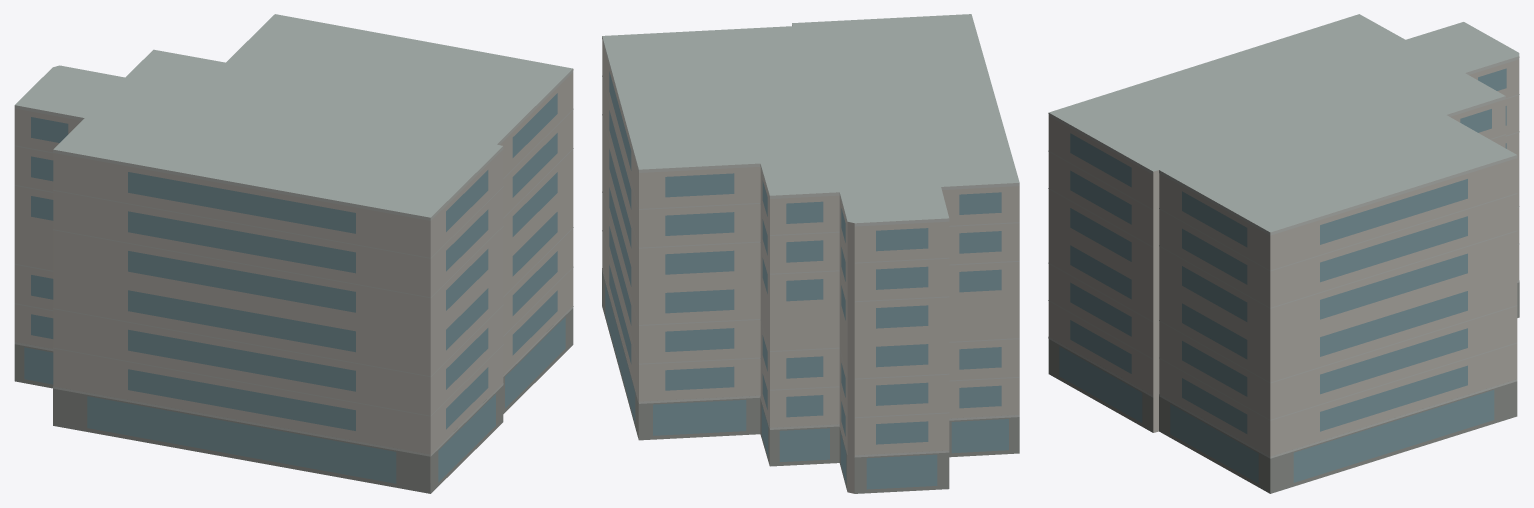
File: survey-upis-32715404.glb
3 renders of one model, left to right at view 1: azimuth 30°, elevation 25°; view 2: azimuth 150°, elevation 25°; view 3: azimuth 270°, elevation 25°, orthographic. The views are drawn at different scales.
Visible parts, largest first — view 1: survey-upis-32715404.tmp; view 2: survey-upis-32715404.tmp; view 3: survey-upis-32715404.tmp.
Boxes of the visible parts, <box> form: survey-upis-32715404.tmp: <box>14,14,573,493</box>; survey-upis-32715404.tmp: <box>602,14,1019,493</box>; survey-upis-32715404.tmp: <box>1048,14,1519,493</box>.
Bounding box in the file's own units: 36.05 × 20.1 × 32.83.
